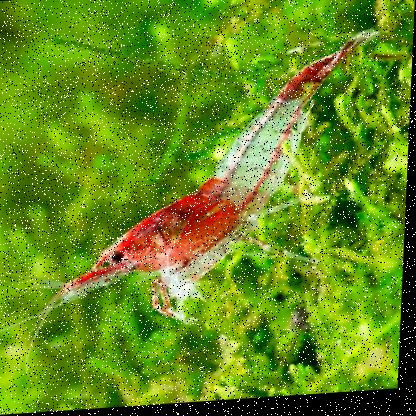shrimp: (60, 30, 373, 342)
